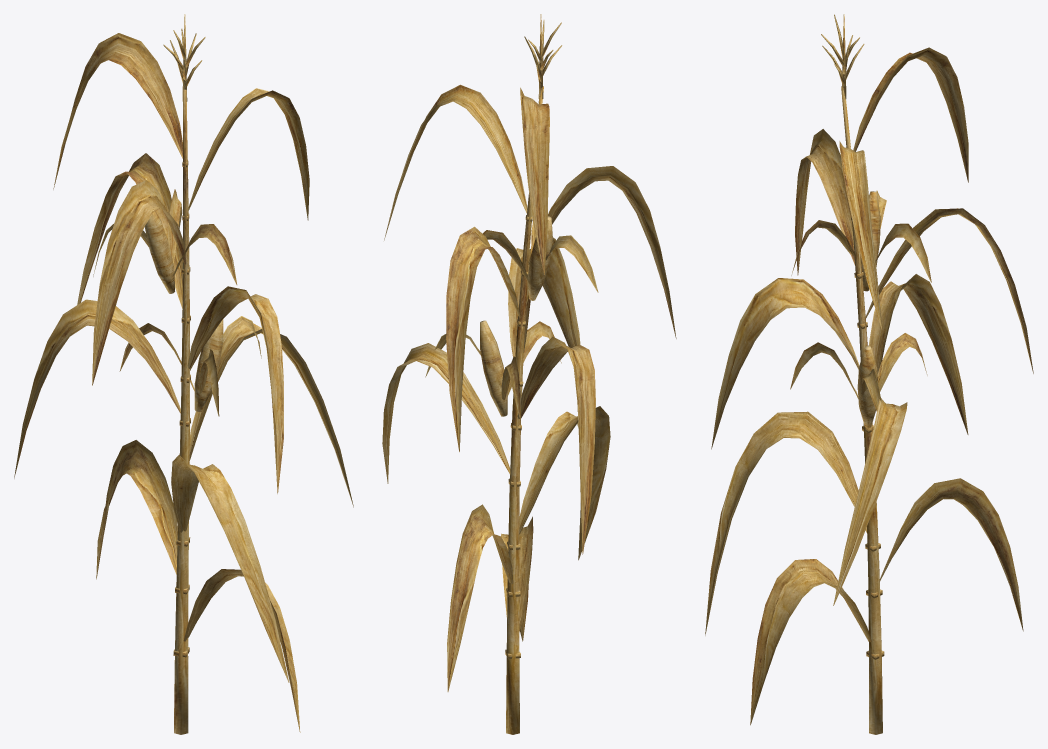
Rendered from Corn_D_Near.glb.
The picture shows the model from 3 angles, left to right: view 1: azimuth 30°, elevation 25°; view 2: azimuth 150°, elevation 25°; view 3: azimuth 270°, elevation 25°; orthographic projection. The views are drawn at different scales.
Visible parts, largest first — view 1: Corn_D_Near; view 2: Corn_D_Near; view 3: Corn_D_Near.
Part boxes in pixels (x1,y1,x2,y2): Corn_D_Near: (14,14,353,734); Corn_D_Near: (382,14,676,734); Corn_D_Near: (705,14,1033,734).
Bounding box in the file's own units: 3.2 × 8 × 3.35.
1 material, 1 textured.
